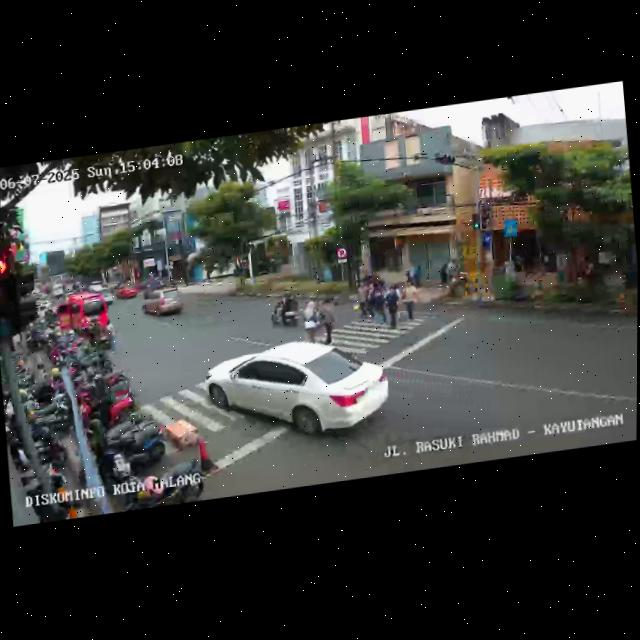car: (204, 331, 388, 460), (52, 289, 112, 347), (138, 284, 184, 322), (115, 280, 140, 303)
motorcycle: (268, 290, 302, 330)
person: (299, 292, 322, 343), (398, 278, 420, 327), (317, 295, 339, 344), (382, 281, 403, 331), (356, 279, 369, 317), (365, 280, 376, 320), (373, 288, 385, 324)
